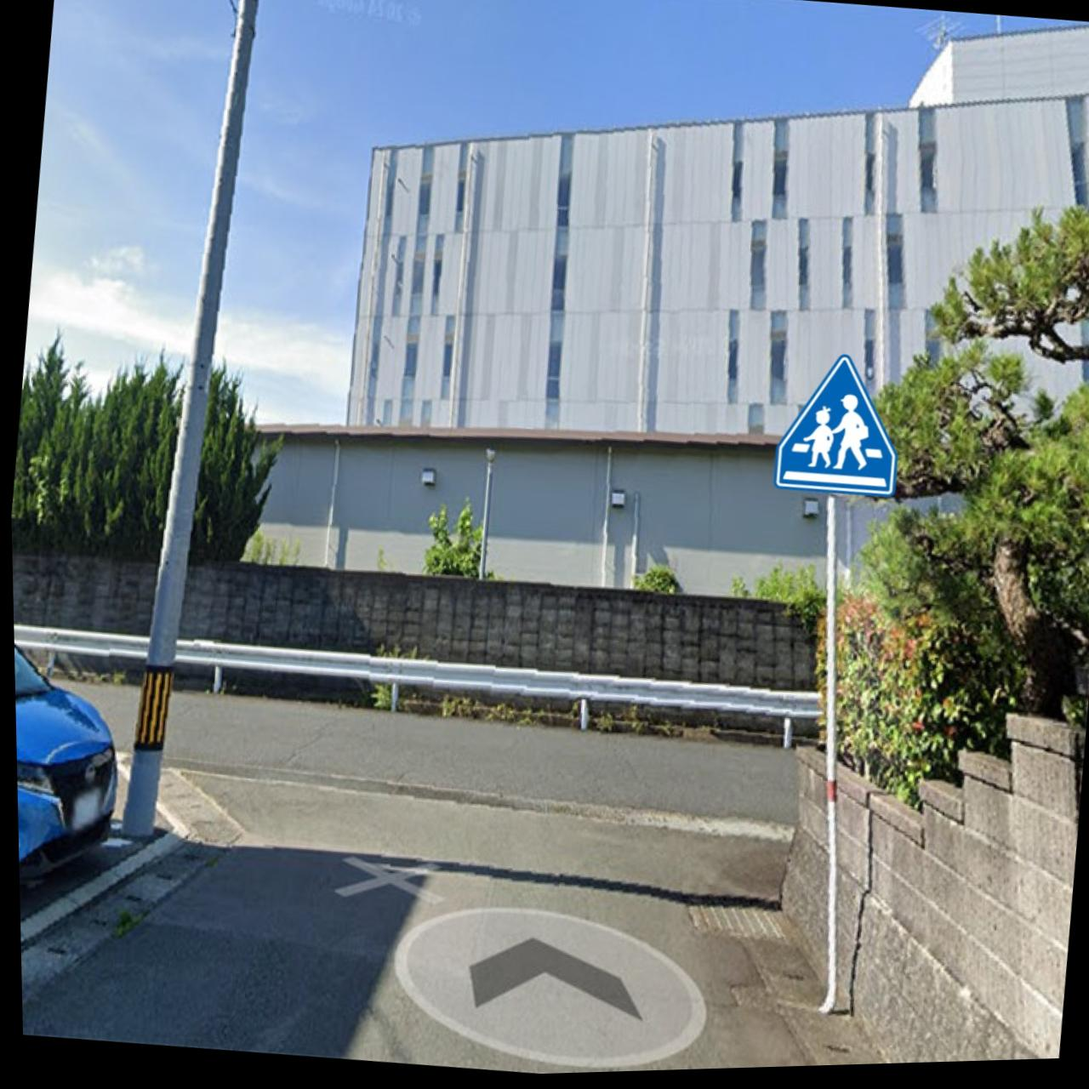cone: (442, 271, 1089, 724)
